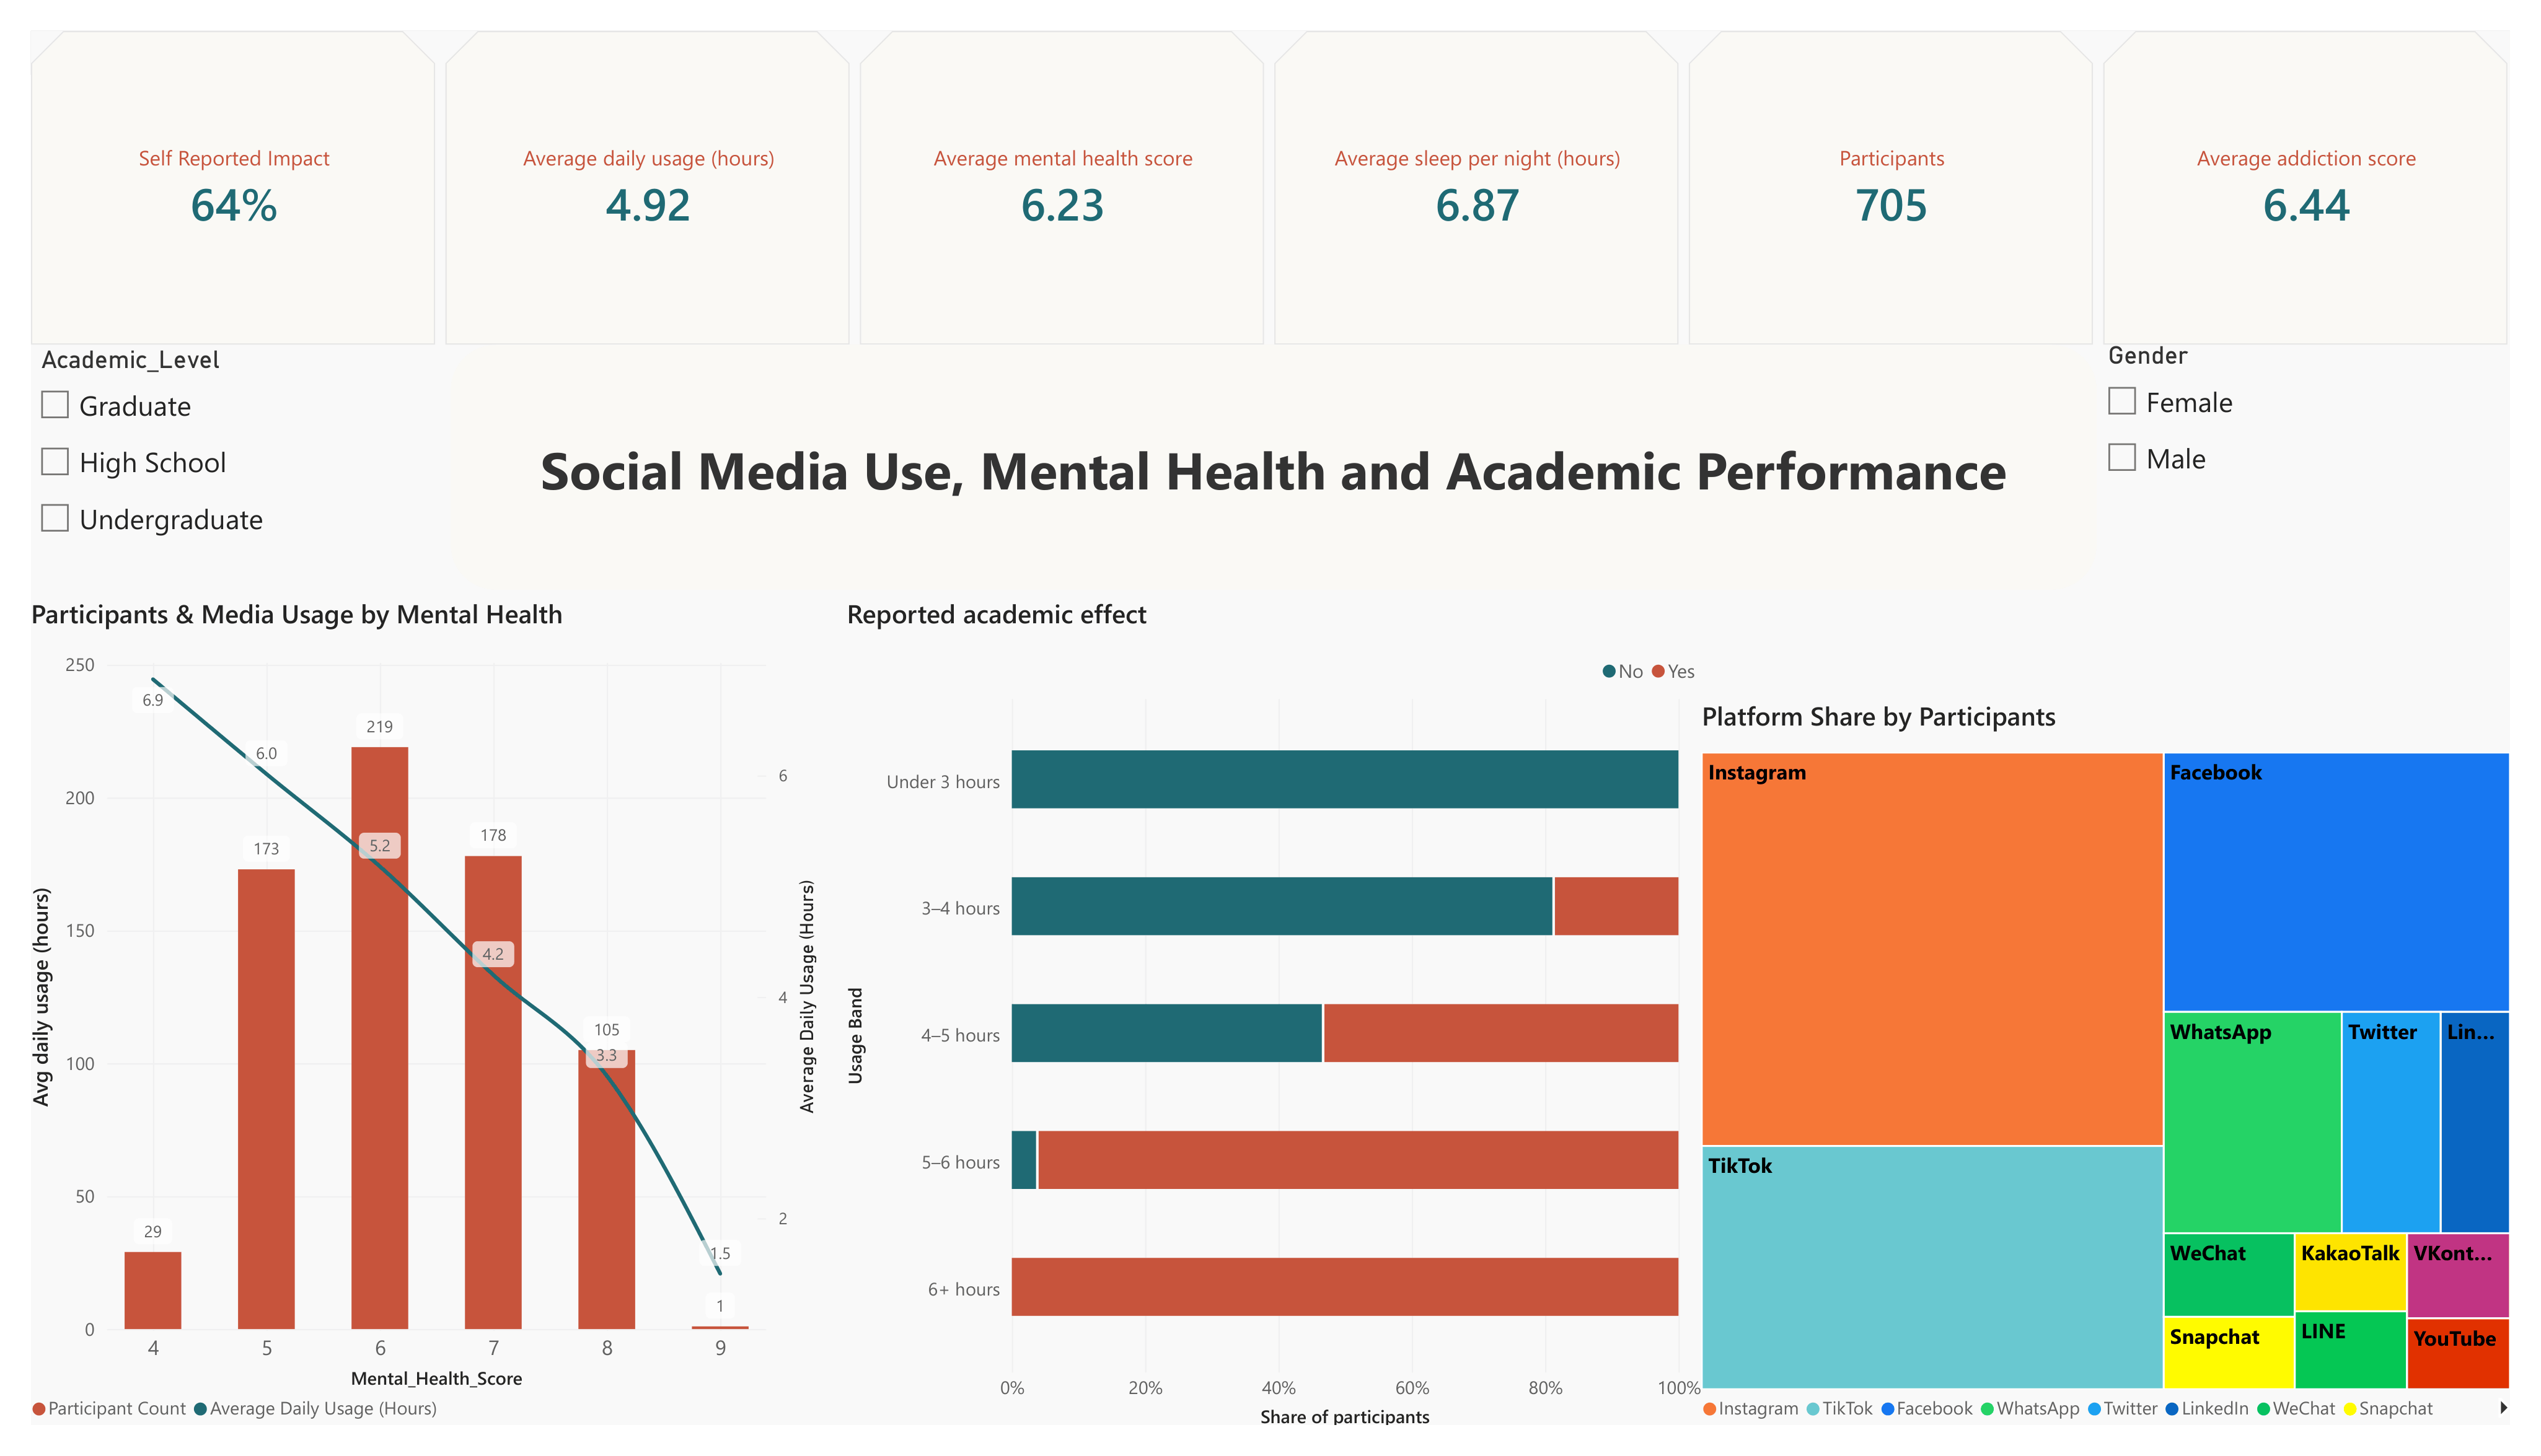

What the dashboard file says about the page in this screenshot:
{"tool":"powerbi","page":{"name":"Overview","canvas":[1920,1080],"ordinal":0},"visuals":[{"type":"cardVisual","fields":{"Data":["Students Social Media Addiction.Affected","Avg(Students Social Media Addiction.Avg_Daily_Usage_Hours)","Avg(Students Social Media Addiction.Mental_Health_Score)","Avg(Students Social Media Addiction.Sleep_Hours_Per_Night)","CountNonNull(Students Social Media Addiction.Student_ID)","Avg(Students Social Media Addiction.Addicted_Score)"]},"box":[0,0,1920,243],"z":0},{"type":"slicer","fields":{"Values":["Students Social Media Addiction.Gender"]},"box":[1601,240,318.6,194.5],"z":1000},{"type":"slicer","fields":{"Values":["Students Social Media Addiction.Academic_Level"]},"box":[0,243,310.3,194.5],"z":2000},{"type":"shape","box":[325.1,243,1274.5,190.3],"z":3000},{"type":"lineClusteredColumnComboChart","title":"Participants & Media Usage by Mental Health","fields":{"Category":["Students Social Media Addiction.Mental_Health_Score"],"Y":["Students Social Media Addiction.Participant Count"],"Y2":["Avg(Students Social Media Addiction.Avg_Daily_Usage_Hours)"]},"box":[0,437.5,607.6,644.1],"z":4000},{"type":"hundredPercentStackedBarChart","title":"Reported academic effect","fields":{"Category":["Students Social Media Addiction.Usage Band"],"Series":["Students Social Media Addiction.Affects_Academic_Performance"],"Y":["CountNonNull(Students Social Media Addiction.Student_ID)"]},"box":[631.9,437.5,662.3,644.1],"z":5000},{"type":"treemap","title":"Platform Share by Participants","fields":{"Group":["Students Social Media Addiction.Most_Used_Platform"],"Values":["Students Social Media Addiction.Participant Count"]},"box":[1294.2,516.5,625.8,565.1],"z":6000}]}

Visuals, with their boxes on the page's 1920x1080 design canvas (x1, y1, x2, y2). These are canvas units, not pixel positions in the 2541x1456 screenshot, which may show the page scaled, cropped or inside an application window:
cardVisual - Students Social Media Addiction.Affected x Avg(Students Social Media Addiction.Avg_Daily_Usage_Hours): (0,0,1920,243)
slicer - Students Social Media Addiction.Gender: (1601,240,1920,434)
slicer - Students Social Media Addiction.Academic_Level: (0,243,310,438)
shape: (325,243,1600,433)
"Participants & Media Usage by Mental Health" lineClusteredColumnComboChart: (0,438,608,1082)
"Reported academic effect" hundredPercentStackedBarChart: (632,438,1294,1082)
"Platform Share by Participants" treemap: (1294,516,1920,1082)
